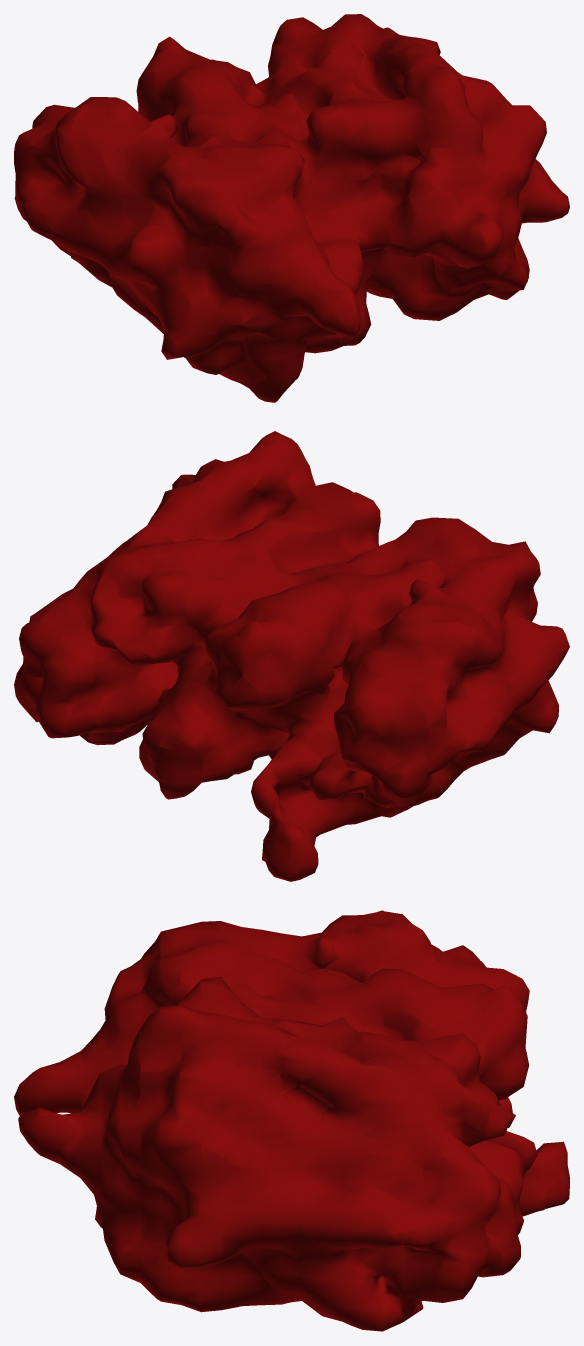
Rendered from CoarseMS_4av3_1_1.dae.
The picture shows the model from 3 angles, top to bottom: view 1: azimuth 30°, elevation 25°; view 2: azimuth 150°, elevation 25°; view 3: azimuth 270°, elevation 25°; orthographic projection. The views are drawn at different scales.
Parts seen in each view (by area): view 1: CoarseMS_4av3_aligned; view 2: CoarseMS_4av3_aligned; view 3: CoarseMS_4av3_aligned.
Part boxes in pixels (x1,y1,x2,y2): CoarseMS_4av3_aligned: (14, 14, 569, 402); CoarseMS_4av3_aligned: (14, 431, 569, 881); CoarseMS_4av3_aligned: (14, 910, 569, 1331).
Size of the model in its own units: 96.49 by 58.35 by 92.91.
